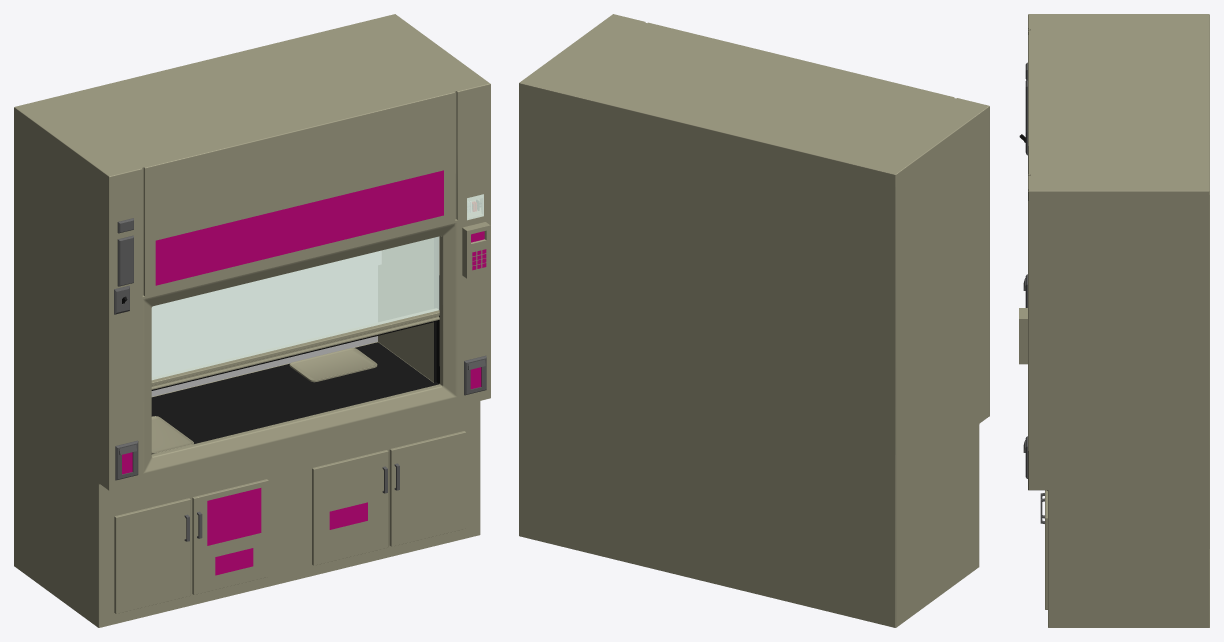
Rendered from laboratory_fume_closet.fbx.
3 views of the same model, side by side, from view 1: azimuth 30°, elevation 25°; view 2: azimuth 150°, elevation 25°; view 3: azimuth 270°, elevation 25° (orthographic). The views are drawn at different scales.
Visible parts, largest first — view 1: laboratory_fume_closet; view 2: laboratory_fume_closet; view 3: laboratory_fume_closet.
Part boxes in pixels (<box>): laboratory_fume_closet: <box>14,14,490,627</box>; laboratory_fume_closet: <box>519,14,989,627</box>; laboratory_fume_closet: <box>1019,14,1209,627</box>.
Bounding box in the file's own units: 4.62 × 5.3 × 2.11.
